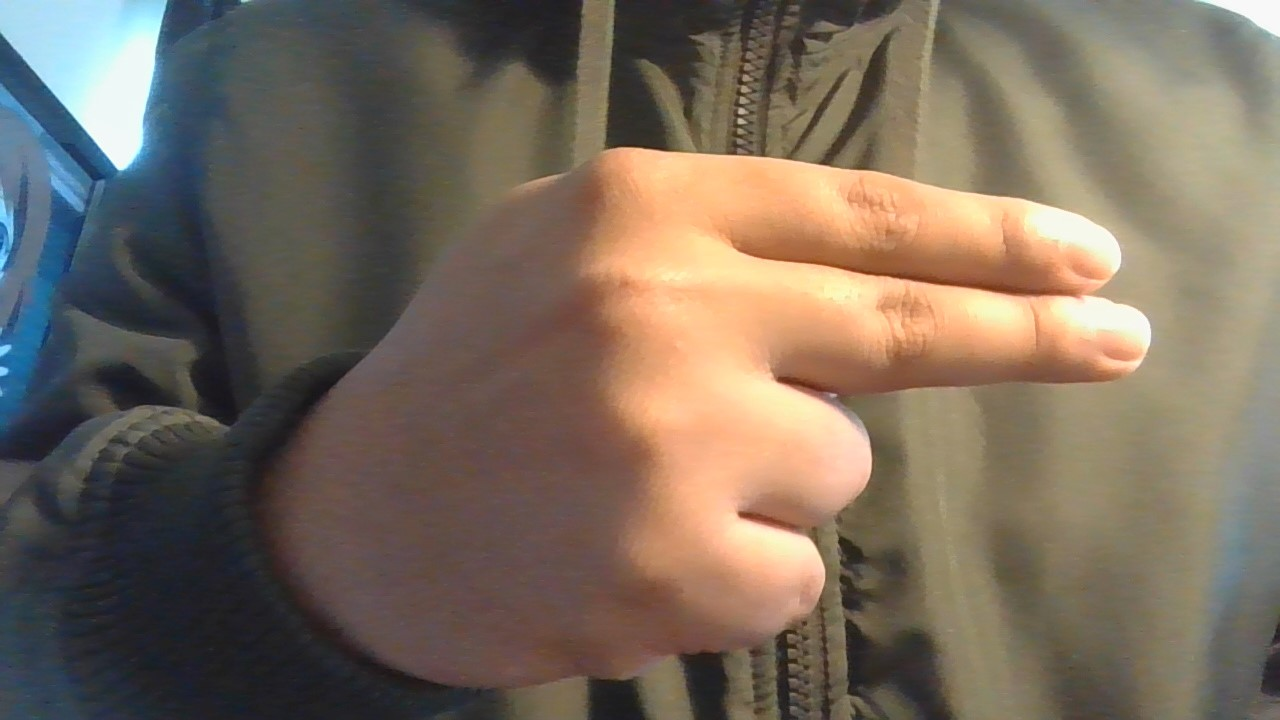h: (195, 125, 1158, 699)
